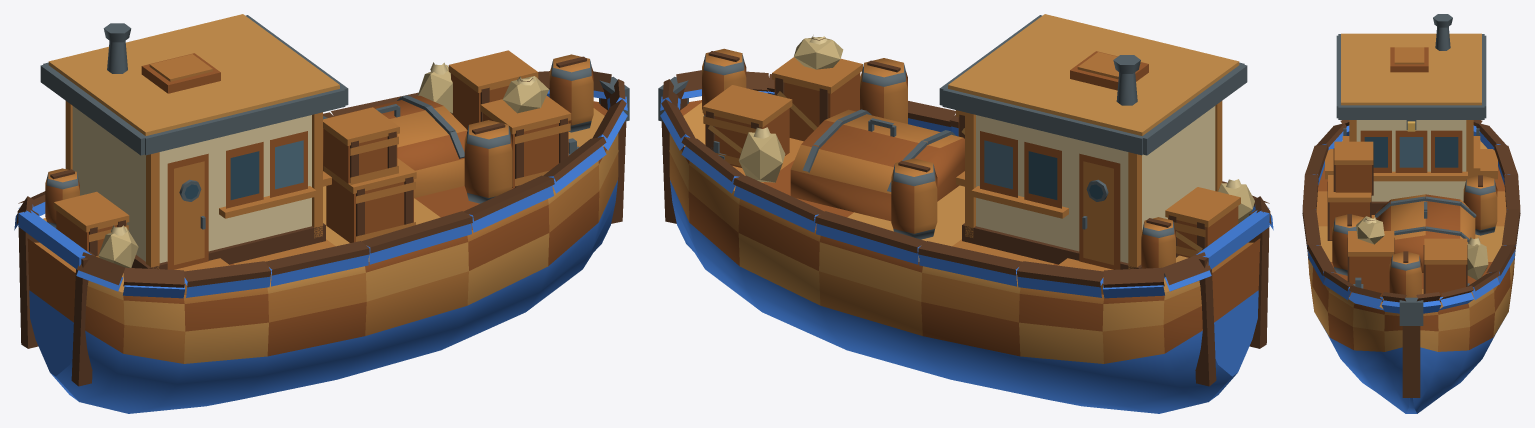
3 renders of one model, left to right at view 1: azimuth 30°, elevation 25°; view 2: azimuth 150°, elevation 25°; view 3: azimuth 270°, elevation 25°, orthographic. The views are drawn at different scales.
Visible parts, largest first — view 1: hull-port, roof-wood, cabin-body, covered-cargo-hold, stern-transom, roof-fascia-port, deck-plank-panels, barrel-forward-port, crate-mid-port-body, door-inner-1, barrel-bow, roof-fascia-back (+42 smaller); view 2: hull-starboard, roof-wood, cabin-body, covered-cargo-hold, stern-transom, deck-plank-panels, roof-fascia-starboard, barrel-middle-starboard, door-inner--1, barrel-forward-port, roof-fascia-back, crate-forward-port-body (+41 smaller); view 3: roof-wood, hull-starboard, hull-port, covered-cargo-hold, cabin-body, roof-fascia-front, deck-plank-panels, barrel-middle-starboard, bow-stem, crate-forward-port-body, barrel-bow, crate-forward-starboard-lid (+45 smaller).
Boxes of the visible parts, x1=… form: hull-port: x1=56, y1=133, x2=618, y2=413; roof-wood: x1=48, y1=14, x2=339, y2=135; cabin-body: x1=72, y1=106, x2=311, y2=263; covered-cargo-hold: x1=323, y1=95, x2=467, y2=197; stern-transom: x1=27, y1=238, x2=75, y2=376; roof-fascia-port: x1=142, y1=87, x2=345, y2=155; deck-plank-panels: x1=34, y1=101, x2=607, y2=294; barrel-forward-port: x1=464, y1=120, x2=512, y2=203; crate-mid-port-body: x1=326, y1=178, x2=413, y2=242; door-inner-1: x1=174, y1=161, x2=204, y2=264; barrel-bow: x1=549, y1=54, x2=593, y2=132; roof-fascia-back: x1=40, y1=64, x2=146, y2=155; hull-starboard: x1=669, y1=133, x2=1231, y2=413; roof-wood: x1=948, y1=14, x2=1239, y2=135; cabin-body: x1=976, y1=106, x2=1215, y2=263; covered-cargo-hold: x1=790, y1=109, x2=964, y2=221; stern-transom: x1=1212, y1=238, x2=1260, y2=376; deck-plank-panels: x1=680, y1=100, x2=1253, y2=294; roof-fascia-starboard: x1=942, y1=87, x2=1145, y2=155; barrel-middle-starboard: x1=891, y1=158, x2=937, y2=239; door-inner--1: x1=1083, y1=161, x2=1113, y2=264; barrel-forward-port: x1=860, y1=58, x2=907, y2=123; roof-fascia-back: x1=1140, y1=64, x2=1247, y2=155; crate-forward-port-body: x1=774, y1=73, x2=860, y2=141; roof-wood: x1=1341, y1=33, x2=1481, y2=105; hull-starboard: x1=1413, y1=250, x2=1515, y2=413; hull-port: x1=1307, y1=250, x2=1409, y2=413; covered-cargo-hold: x1=1376, y1=194, x2=1475, y2=272; cabin-body: x1=1356, y1=120, x2=1466, y2=201; roof-fascia-front: x1=1338, y1=105, x2=1484, y2=119; deck-plank-panels: x1=1316, y1=141, x2=1506, y2=308; barrel-middle-starboard: x1=1463, y1=176, x2=1497, y2=235; bow-stem: x1=1402, y1=326, x2=1420, y2=397; crate-forward-port-body: x1=1349, y1=256, x2=1391, y2=295; barrel-bow: x1=1389, y1=252, x2=1421, y2=297; crate-forward-starboard-lid: x1=1424, y1=238, x2=1467, y2=264.
Size of the model in its own units: 1.2 by 0.7455 by 0.5402.
